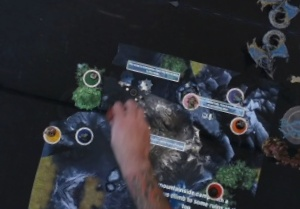green: (70, 122, 97, 149), (77, 65, 102, 89)
orange: (225, 111, 252, 138)
pink: (179, 88, 203, 111)
red: (202, 177, 229, 204)
violet: (223, 84, 247, 108)
yellow: (36, 121, 66, 147)
